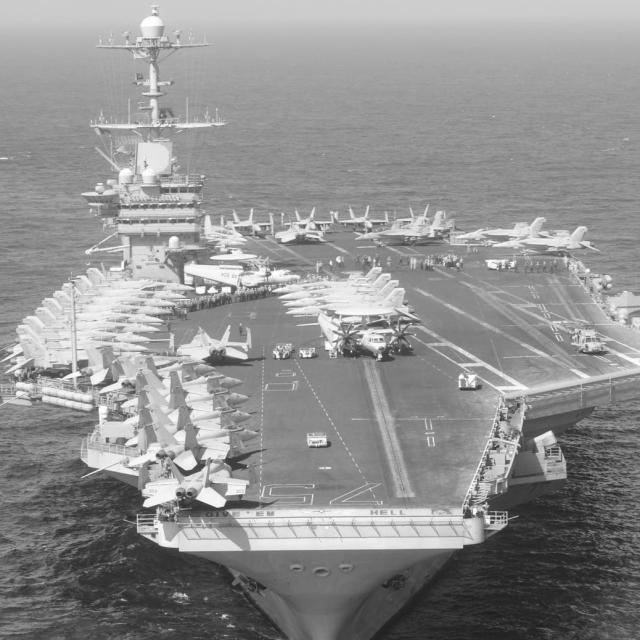Portanaves: (1, 3, 640, 640)
